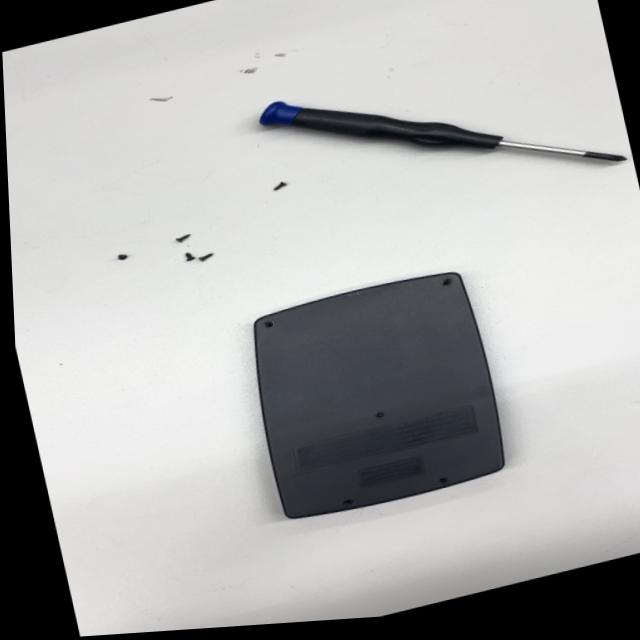back_cover: (234, 258, 520, 534)
screw: (268, 170, 293, 195), (112, 248, 135, 265), (174, 225, 194, 243), (197, 247, 218, 263), (179, 250, 196, 264)
screw_driver: (255, 21, 631, 245)
